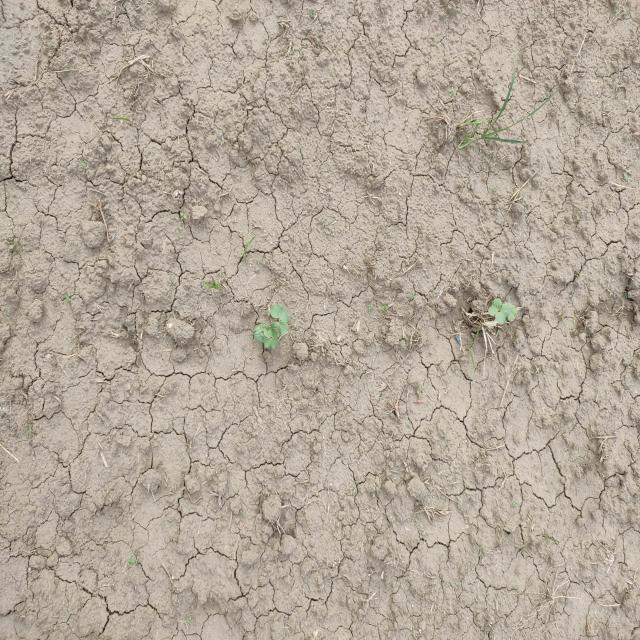seedling: (495, 303, 511, 325), (270, 305, 289, 322), (488, 299, 502, 316), (270, 321, 288, 334), (264, 327, 279, 339), (254, 331, 267, 343), (264, 338, 278, 349), (508, 305, 517, 321), (254, 323, 269, 331)
